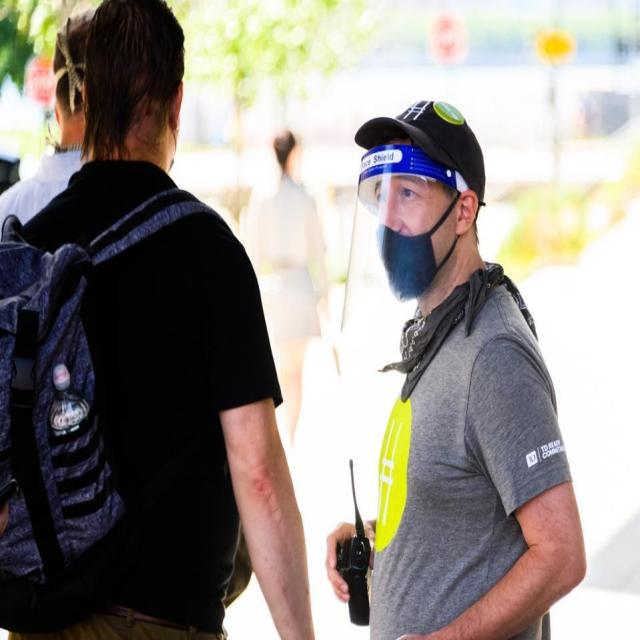Mask: (376, 221, 438, 300)
